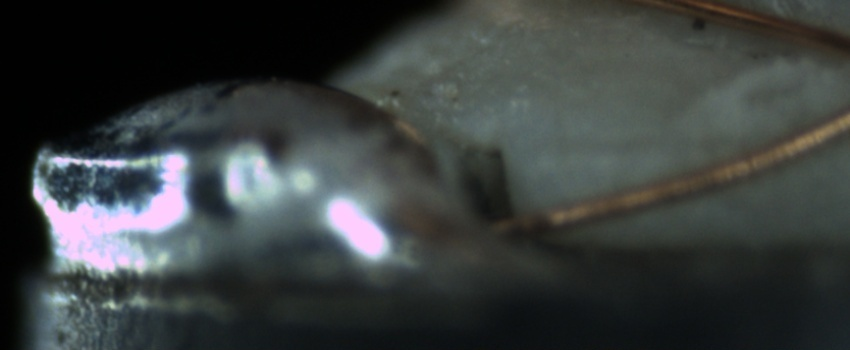DL: (541, 112, 682, 178)
